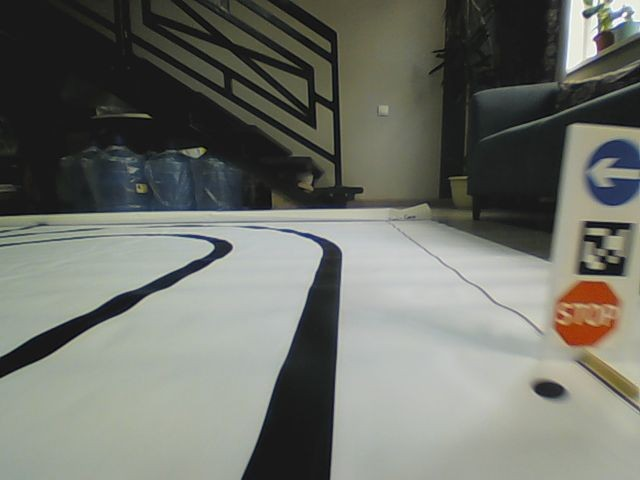Stop: (551, 276, 620, 348)
